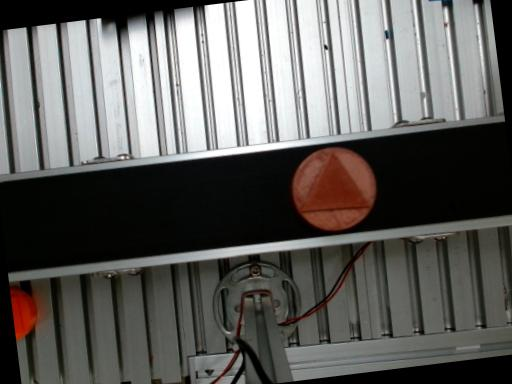Brown_Waper: (292, 147, 377, 230)
Not_Square: (300, 147, 371, 212)
